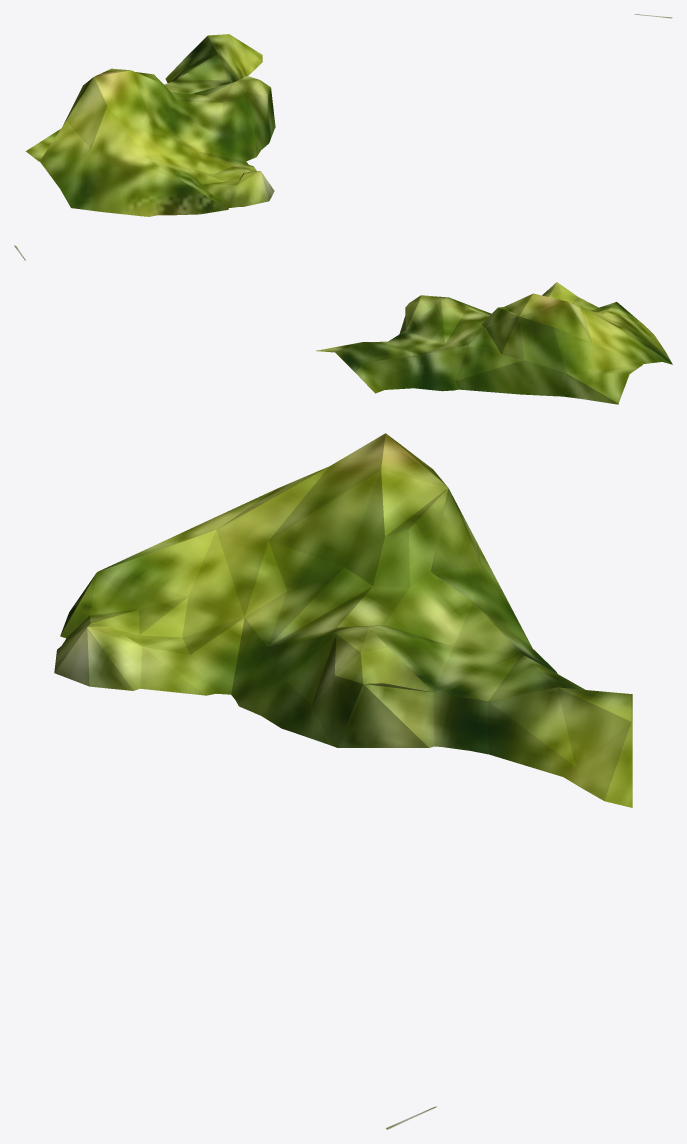
The picture shows the model from 3 angles, top to bottom: view 1: azimuth 30°, elevation 25°; view 2: azimuth 150°, elevation 25°; view 3: azimuth 270°, elevation 25°; orthographic projection. The views are drawn at different scales.
Bounding box in the file's own units: 1.25 × 0.1521 × 0.5063.
1 material, 1 textured.
